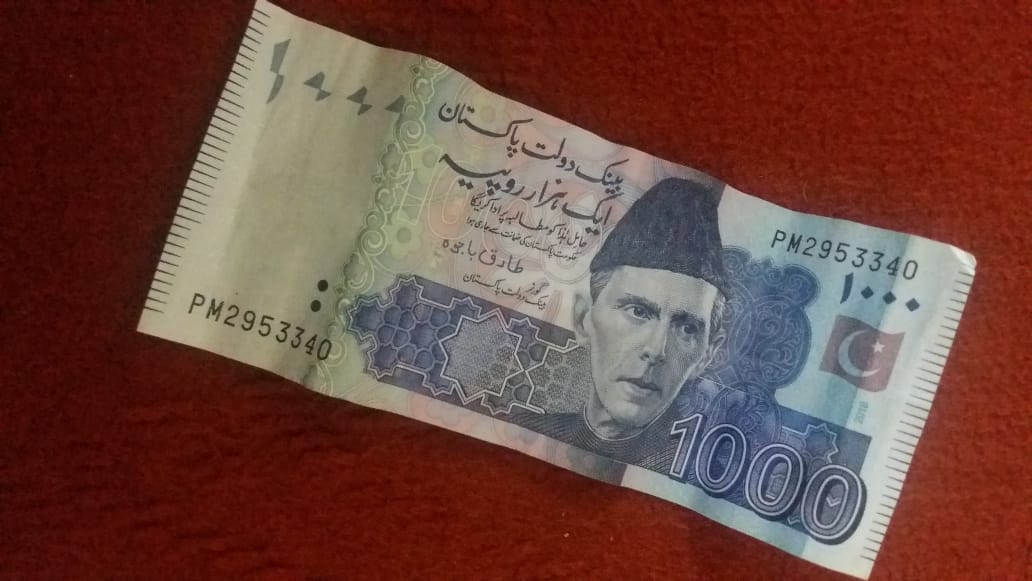1000 rupee: (143, 1, 983, 569)
